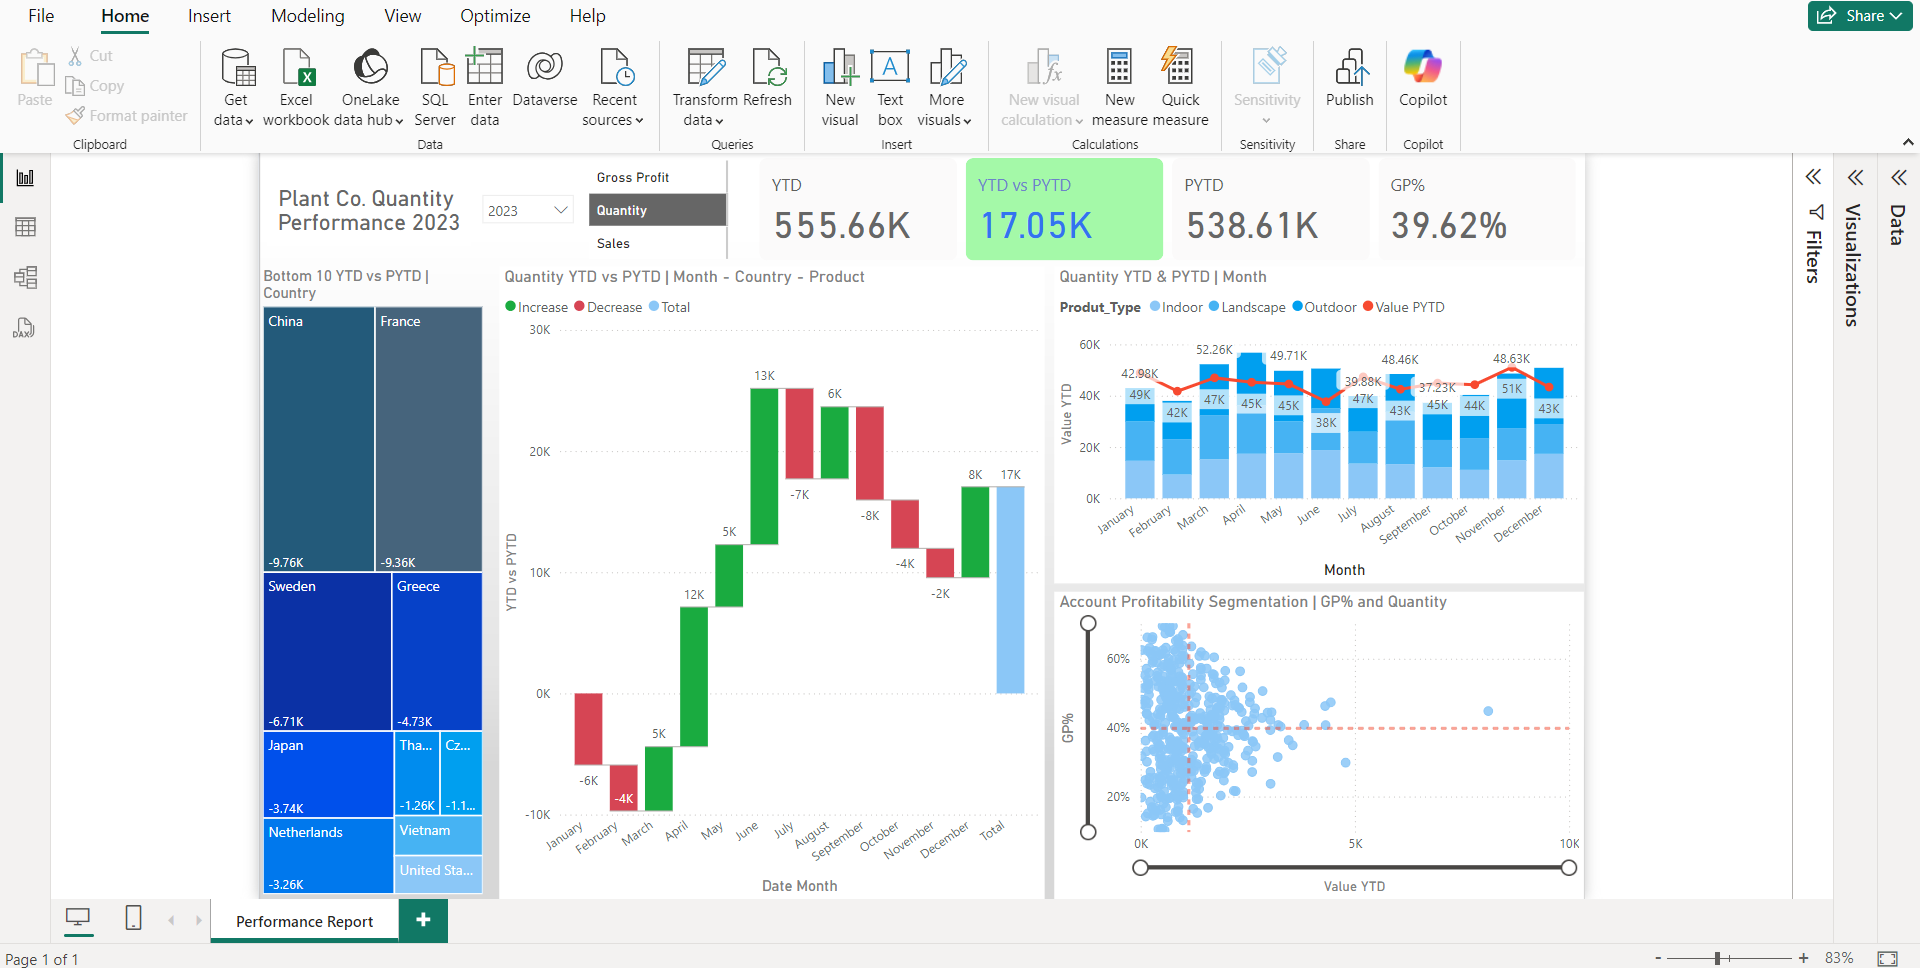

What the dashboard file says about the page in this screenshot:
{"tool":"powerbi","page":{"name":"Performance Report","canvas":[1280,720],"ordinal":0},"visuals":[{"type":"cardVisual","fields":{"Data":["_Measures.S_YTD","_Measures.YTD vs PYTD","_Measures.S_PYTD","_Measures.GP%"]},"box":[479,0,801.1,109.8],"z":0},{"type":"advancedSlicerVisual","fields":{"Values":["Slc_Values.Values"]},"box":[314.9,2.4,144.8,106.2],"z":1000},{"type":"slicer","fields":{"Values":["Dim_Date.Date.Variation.Date Hierarchy.Year"]},"box":[206.3,30.2,108.6,59.1],"z":2000},{"type":"treemap","title":"Bottom 10 YTD vs PYTD | Country","fields":{"Values":["_Measures.YTD vs PYTD"],"Group":["Dim_Account.country"]},"box":[0,109.8,222,610.5],"z":3000},{"type":"waterfallChart","fields":{"Y":["_Measures.YTD vs PYTD"],"Category":["Dim_Date.Date.Variation.Date Hierarchy.Month","Dim_Account.country","Dim_Product.Produt_Type","Dim_Product.Product_Name"]},"box":[232.8,109.8,526,610.5],"z":4000},{"type":"lineStackedColumnComboChart","fields":{"Y":["_Measures.S_YTD"],"Y2":["_Measures.S_PYTD"],"Category":["Dim_Date.Date.Variation.Date Hierarchy.Quarter","Dim_Date.Date.Variation.Date Hierarchy.Month"],"Series":["Dim_Product.Produt_Type"]},"box":[768.5,109.8,511.5,305.2],"z":5000},{"type":"scatterChart","fields":{"Y":["_Measures.GP%"],"X":["_Measures.S_YTD"],"Category":["Dim_Account.Account"]},"box":[768.5,423.5,511.5,296.8],"z":5001},{"type":"card","fields":{"Values":["_Measures._Report title"]},"box":[8.4,20.5,197.9,68.8],"z":5002}]}

Visuals, with their boxes on the page's 1280x720 design canvas (x1, y1, x2, y2). These are canvas units, not pixel positions in the 1920x968 screenshot, which may show the page scaled, cropped or inside an application window:
cardVisual - _Measures.S_YTD x _Measures.YTD vs PYTD: {"left": 479, "top": 0, "right": 1280, "bottom": 110}
advancedSlicerVisual - Slc_Values.Values: {"left": 315, "top": 2, "right": 460, "bottom": 109}
slicer - Dim_Date.Date.Variation.Date Hierarchy.Year: {"left": 206, "top": 30, "right": 315, "bottom": 89}
"Bottom 10 YTD vs PYTD | Country" treemap: {"left": 0, "top": 110, "right": 222, "bottom": 720}
waterfallChart - _Measures.YTD vs PYTD x Dim_Date.Date.Variation.Date Hierarchy.Month: {"left": 233, "top": 110, "right": 759, "bottom": 720}
lineStackedColumnComboChart - _Measures.S_YTD x _Measures.S_PYTD: {"left": 768, "top": 110, "right": 1280, "bottom": 415}
scatterChart - _Measures.GP% x _Measures.S_YTD: {"left": 768, "top": 424, "right": 1280, "bottom": 720}
card - _Measures._Report title: {"left": 8, "top": 20, "right": 206, "bottom": 89}
